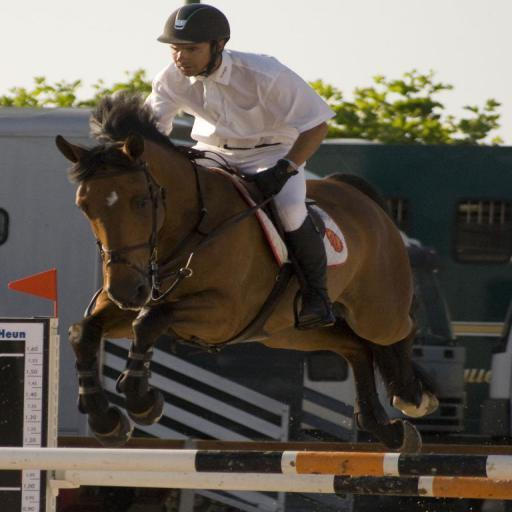horse: (54, 88, 439, 452)
